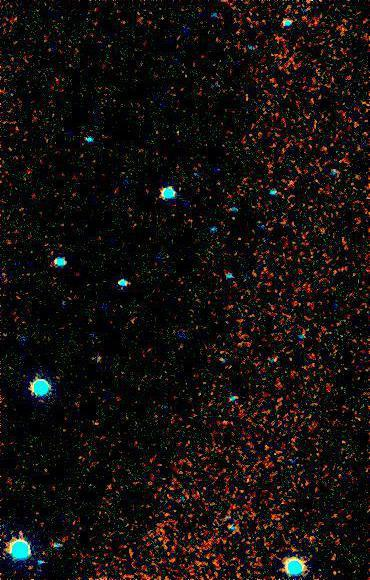star: (317, 550, 347, 580)
